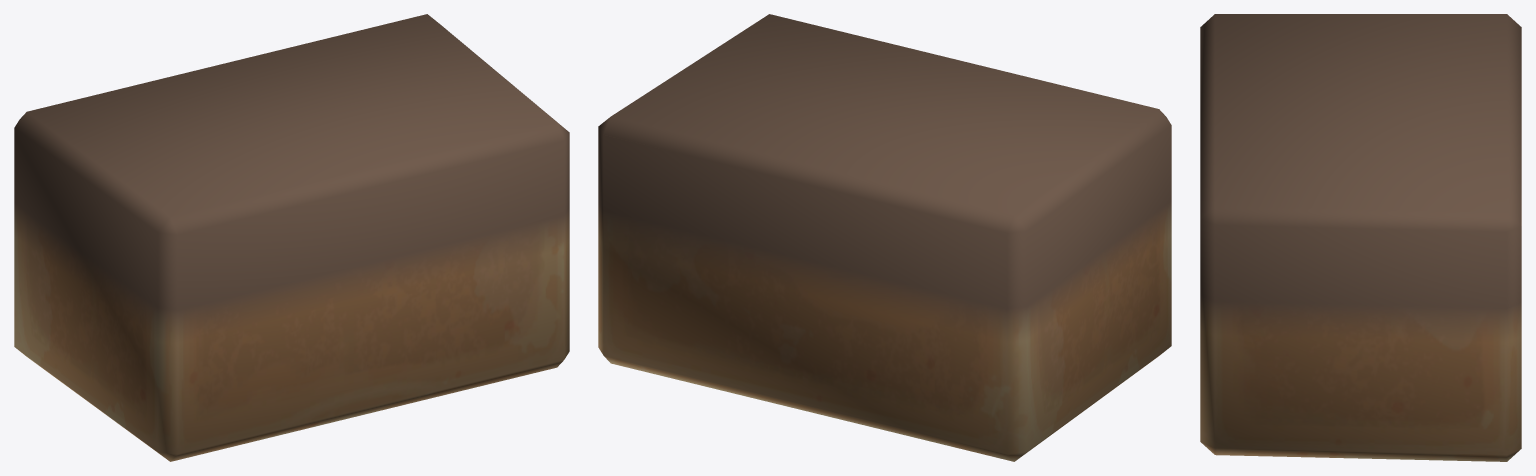
File: SM_brick_07.glb
The picture shows the model from 3 angles, left to right: view 1: azimuth 30°, elevation 25°; view 2: azimuth 150°, elevation 25°; view 3: azimuth 270°, elevation 25°; orthographic projection.
Visible parts, largest first — view 1: SM_brick_07; view 2: SM_brick_07; view 3: SM_brick_07.
Boxes of the visible parts, bbox=[...] form: SM_brick_07: bbox=[14, 14, 569, 461]; SM_brick_07: bbox=[598, 14, 1171, 461]; SM_brick_07: bbox=[1200, 14, 1521, 461].
Bounding box in the file's own units: 0.3632 × 0.2 × 0.2335.
1 material, 1 textured.
